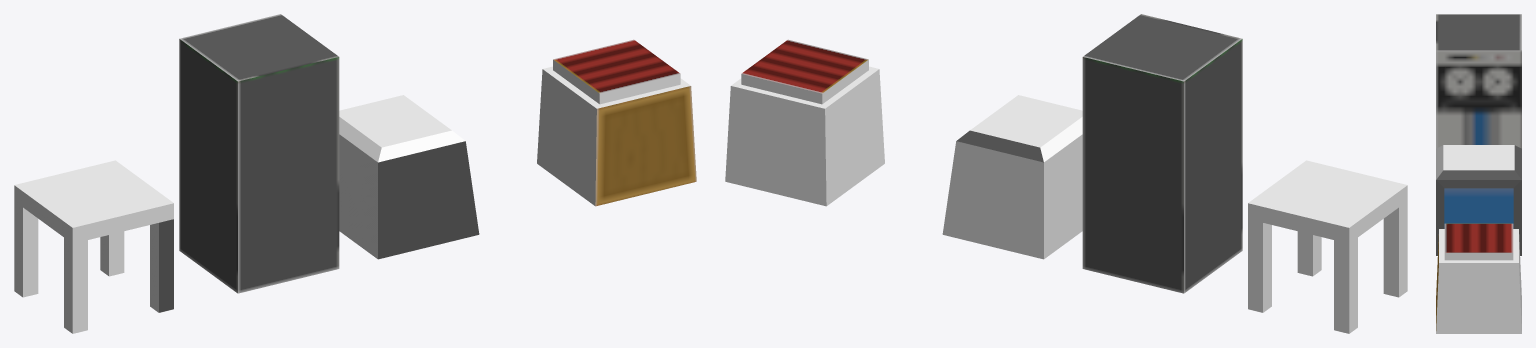
3 renders of one model, left to right at view 1: azimuth 30°, elevation 25°; view 2: azimuth 150°, elevation 25°; view 3: azimuth 270°, elevation 25°, orthographic. The views are drawn at different scales.
Parts seen in each view (by area): view 1: computer, teleport, monitor, table; view 2: computer, teleport, monitor, table; view 3: computer, teleport, monitor.
Part boxes in pixels (x1,y1,x2,y2): computer: (179,14,339,293); teleport: (537,39,696,206); monitor: (339,95,479,259); table: (14,160,173,333); computer: (1082,14,1242,293); teleport: (725,39,884,206); monitor: (942,95,1082,259); table: (1248,160,1407,333); computer: (1436,14,1521,148); teleport: (1436,223,1521,333); monitor: (1436,145,1521,255).
Bounding box in the file's own units: 6.16 × 2 × 1.
Materials: 1 (1 with a texture image).
